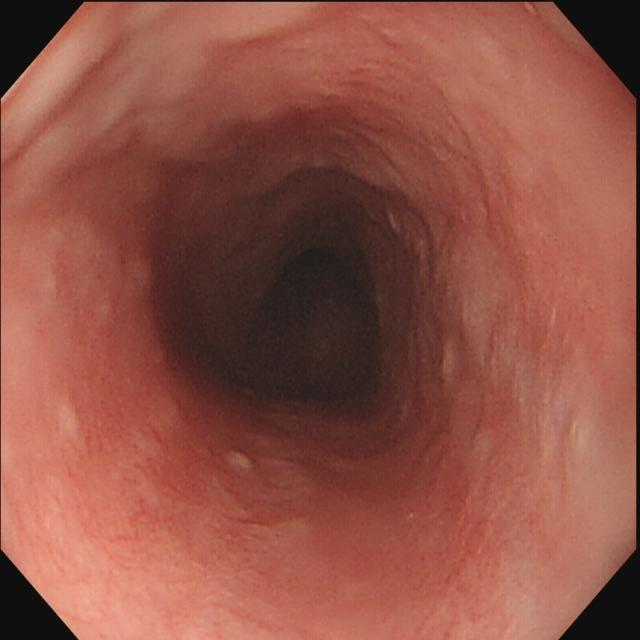E: (245, 239, 384, 405)
